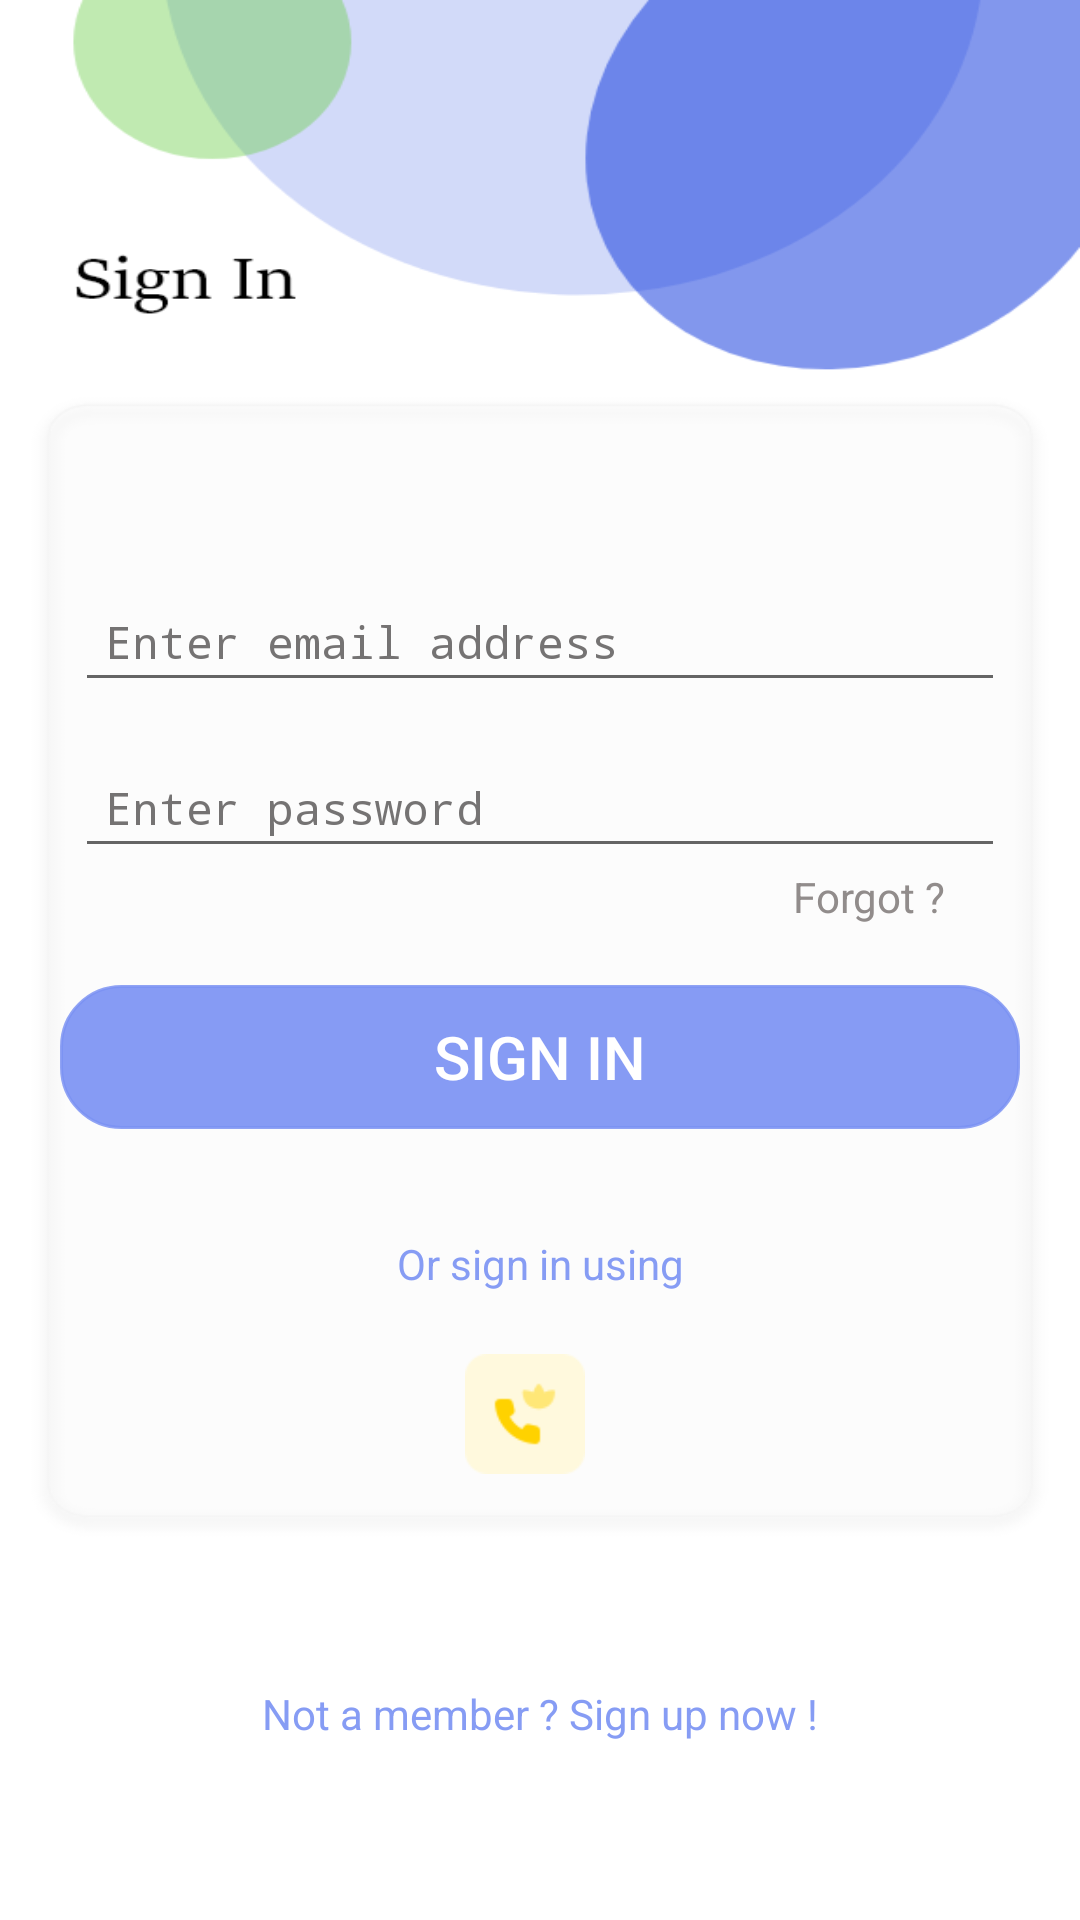

Named icons in this screenshot (1080×1920) and their centers, [x,y]:
call: [525,1414]
